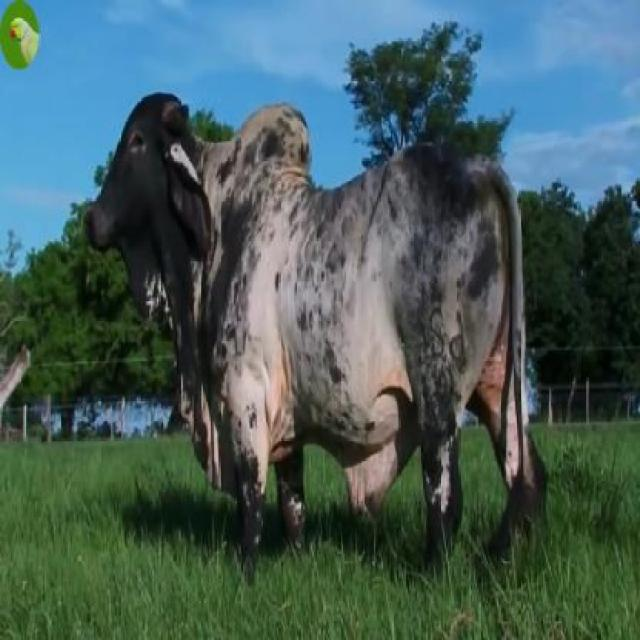Cow: (86, 90, 548, 564)
